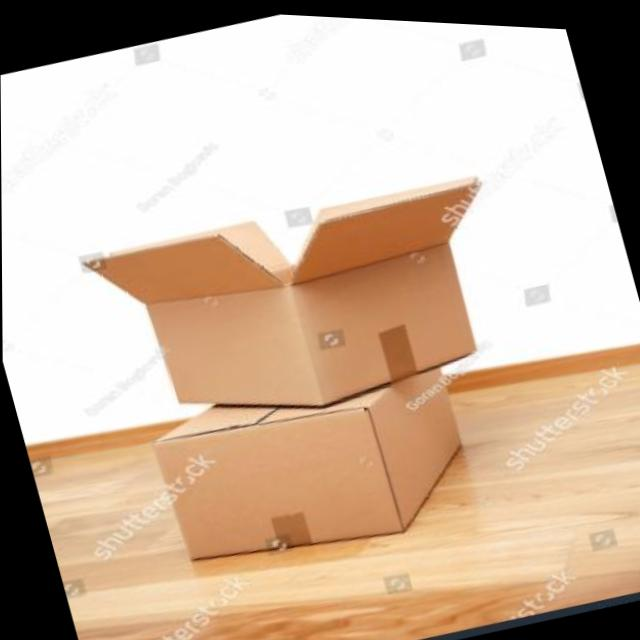box: (70, 130, 535, 462), (124, 321, 502, 601)
